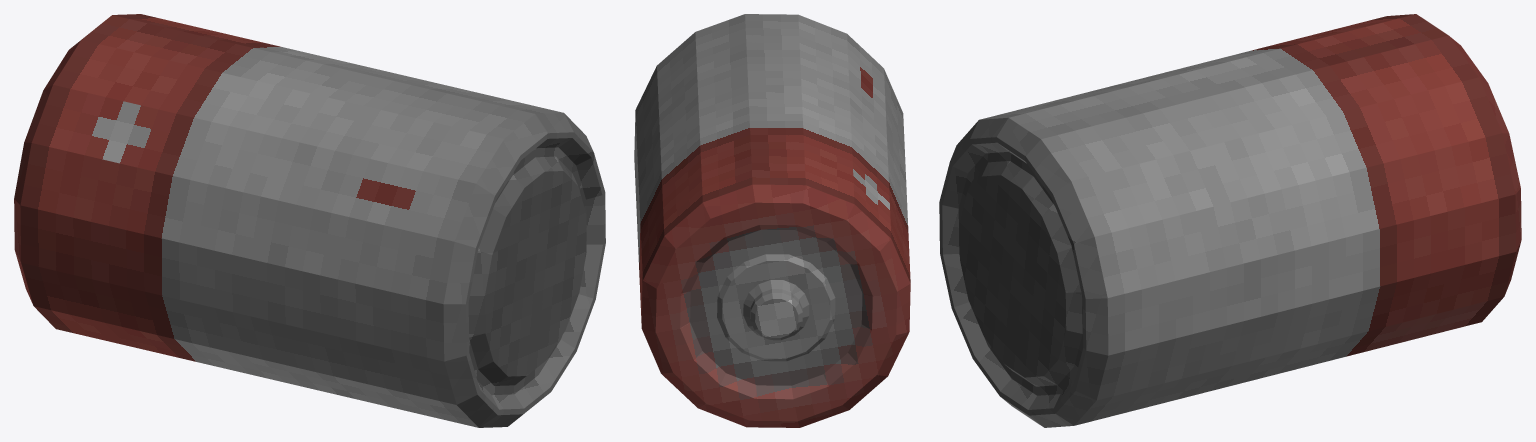
The picture shows the model from 3 angles, left to right: view 1: azimuth 30°, elevation 25°; view 2: azimuth 150°, elevation 25°; view 3: azimuth 270°, elevation 25°; orthographic projection. The views are drawn at different scales.
Visible parts, largest first — view 1: battery_1; view 2: battery_1; view 3: battery_1.
Boxes of the visible parts, x1,y1,x2,y2 form: battery_1: (14,14,605,427); battery_1: (634,14,910,427); battery_1: (939,14,1521,427).
Size of the model in its own units: 0.0867 by 0.0532 by 0.0976.
1 material, 1 textured.
